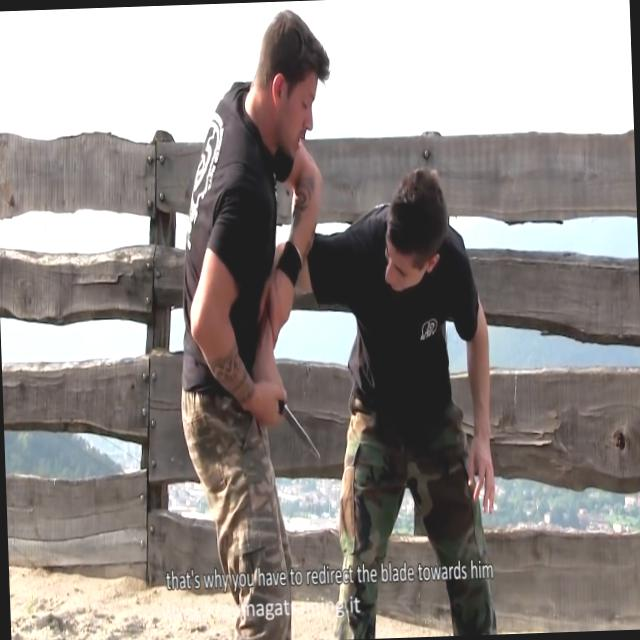knife: (260, 375, 326, 472)
